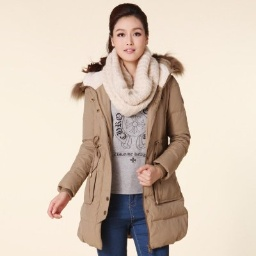face: (108, 3, 150, 61)
